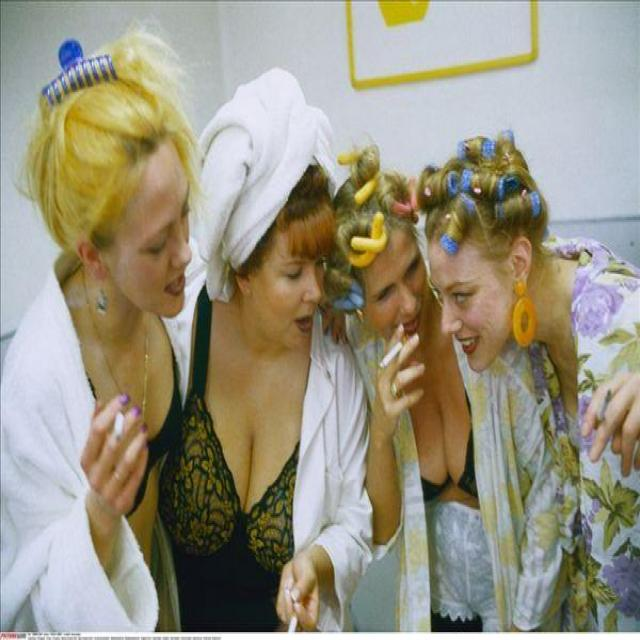Сигарета: (379, 342, 402, 372), (116, 406, 124, 443), (288, 614, 298, 634)
Тело: (0, 37, 197, 632), (424, 133, 640, 640), (183, 69, 367, 640), (336, 150, 501, 640)
